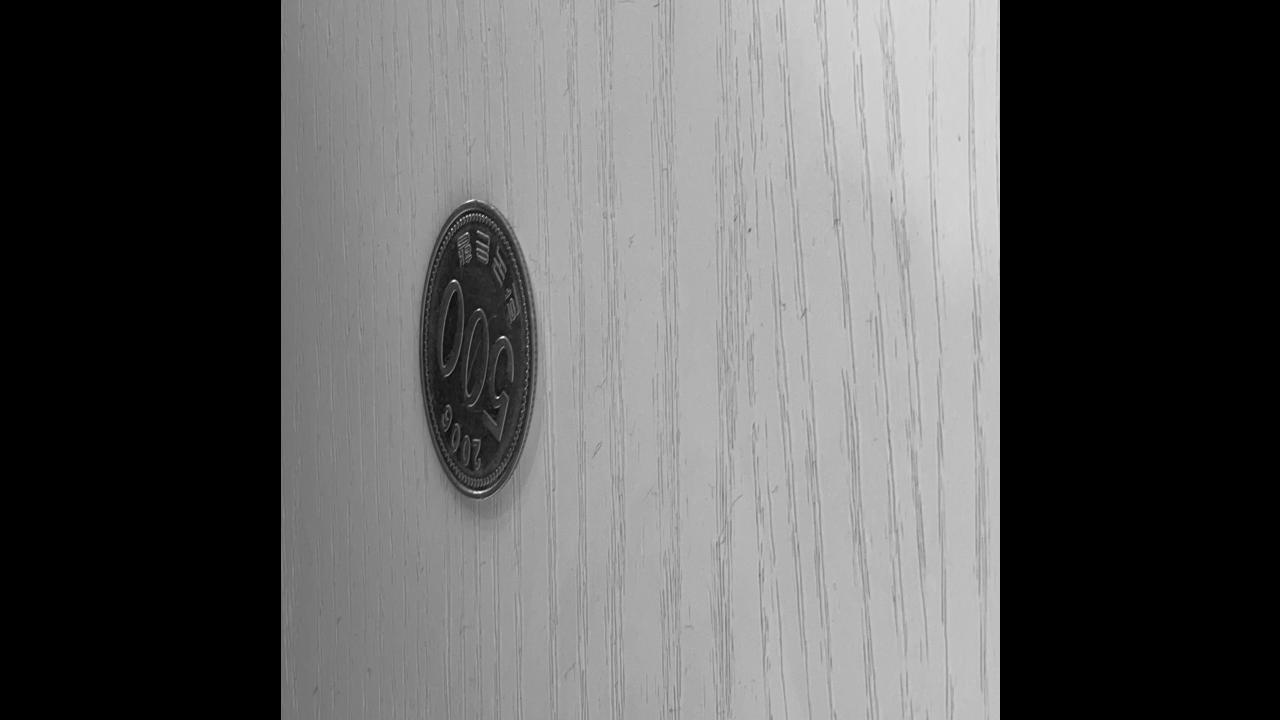coin: (414, 194, 540, 510)
